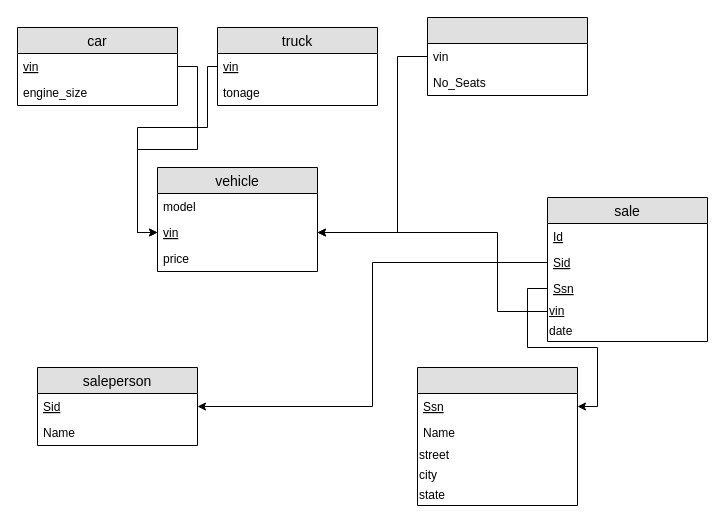
Some shapes in this 725 by 523 pixel diagram are drawn without their labels. Here are the shapes that lost their labels. From the top down, the box of each, then its label:
(426, 16, 588, 96): suv
(416, 366, 578, 506): customer
